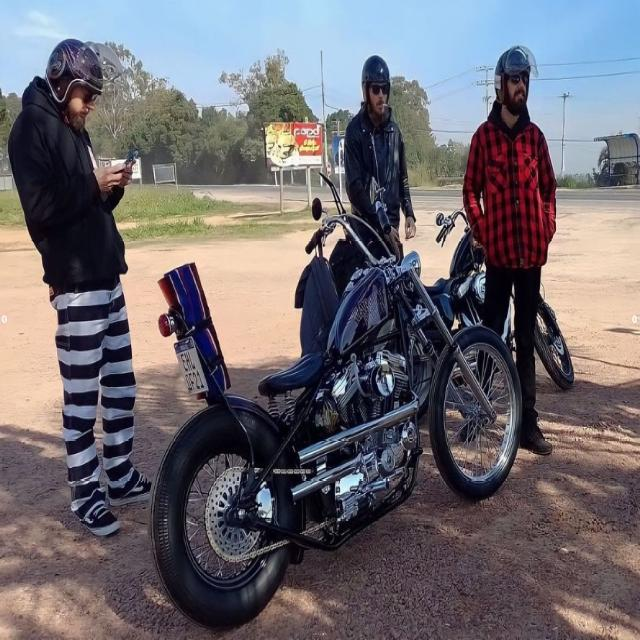helmet: (44, 32, 128, 138), (491, 40, 542, 118), (358, 52, 394, 120)
